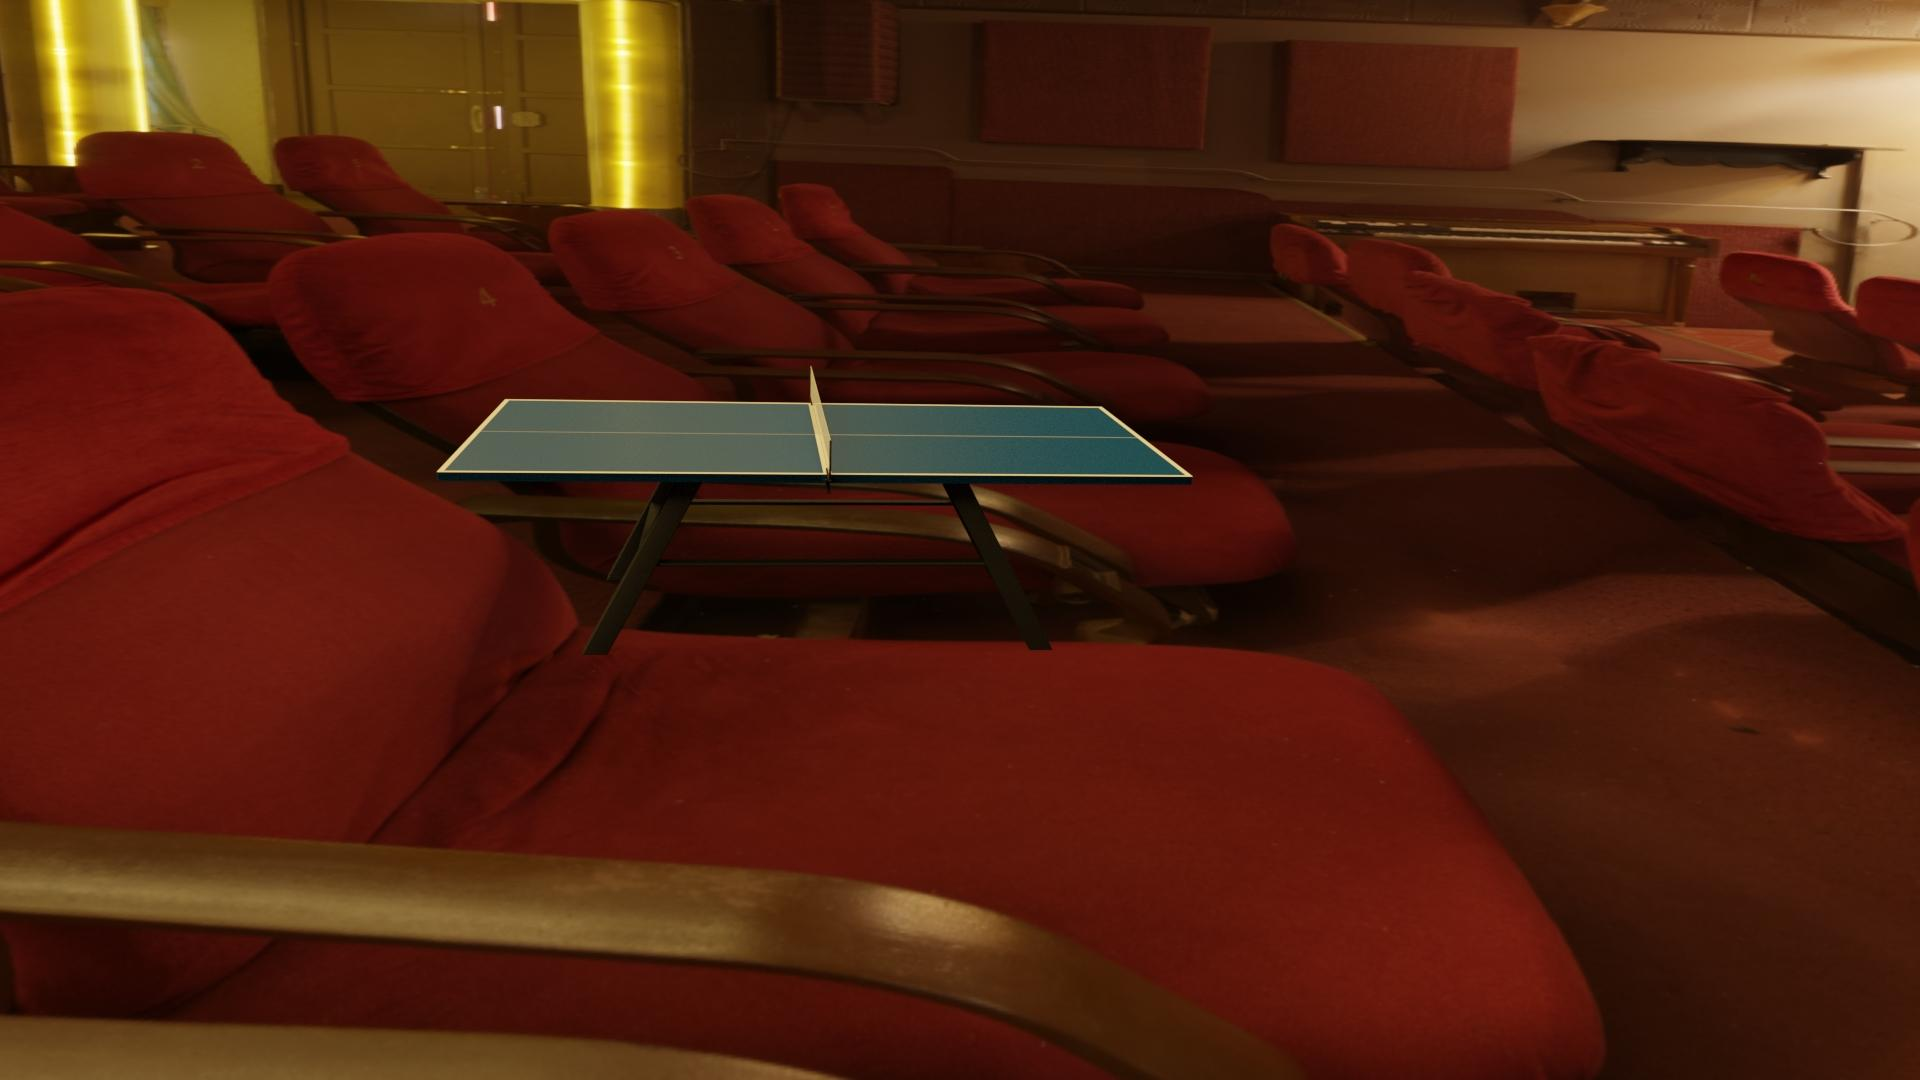table: (444, 400, 1185, 476)
